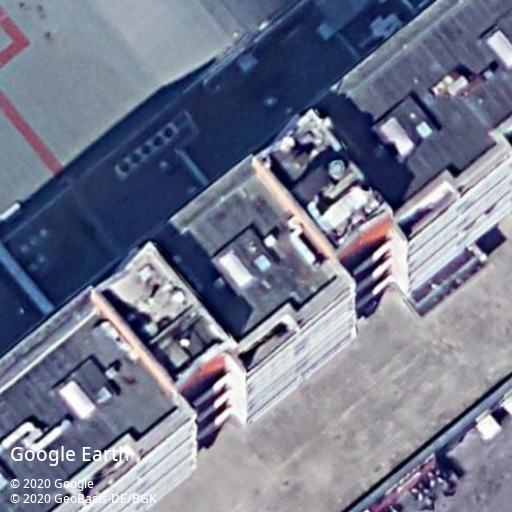Chiller: (111, 120, 179, 182)
